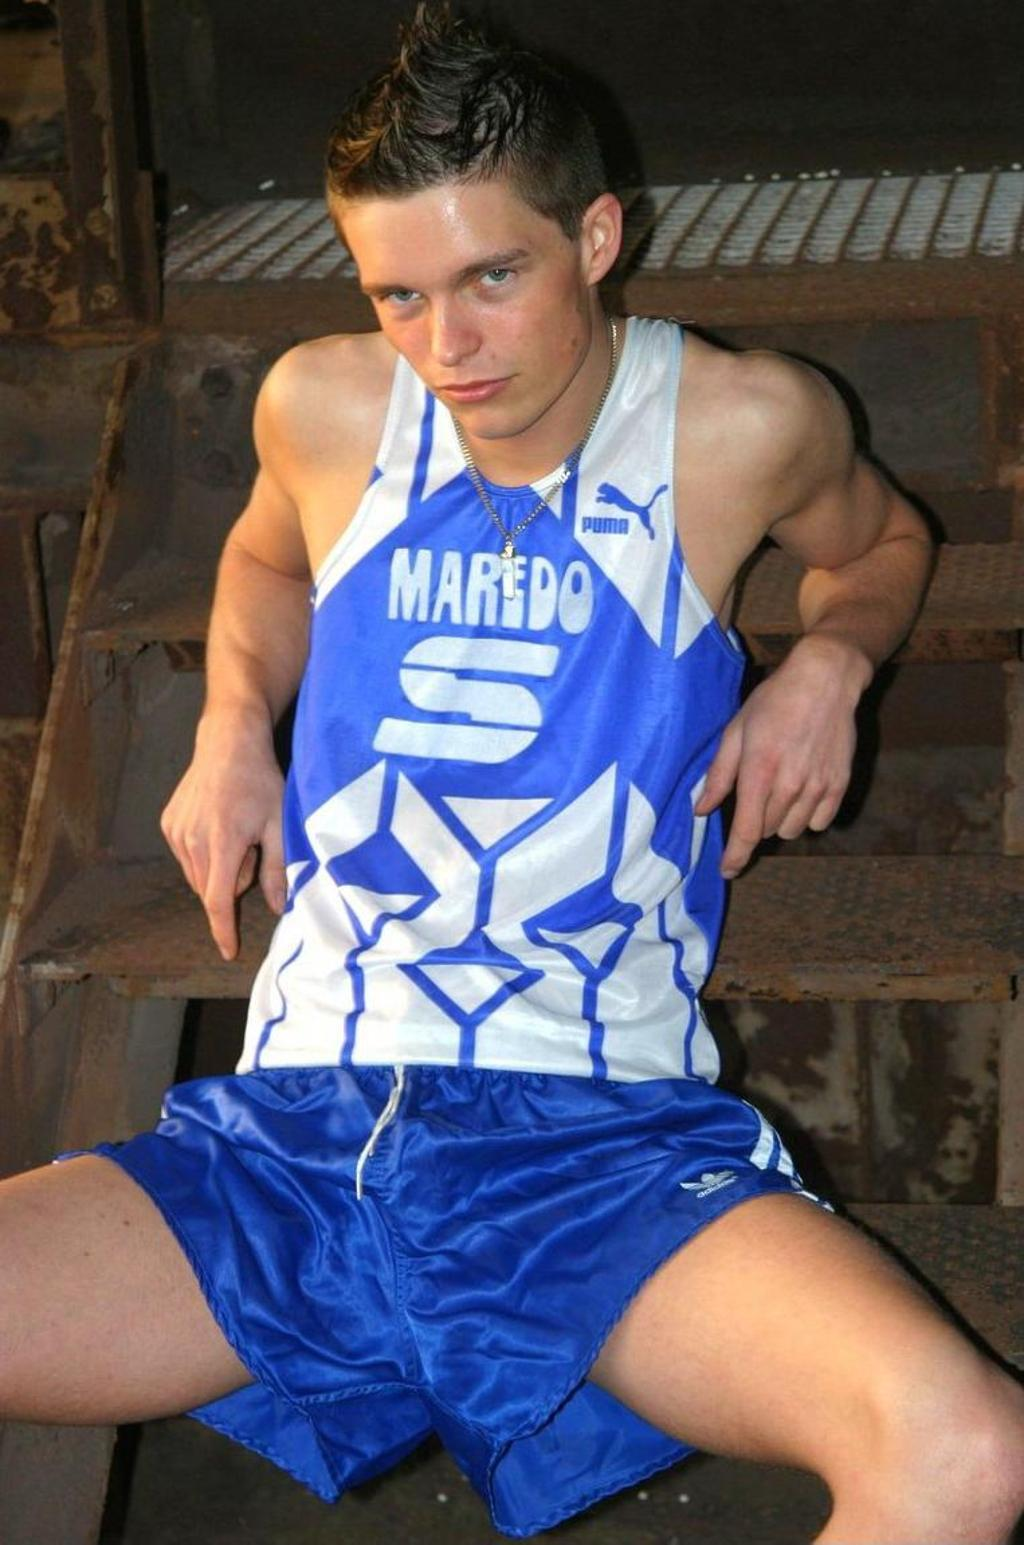face: (345, 191, 587, 430)
